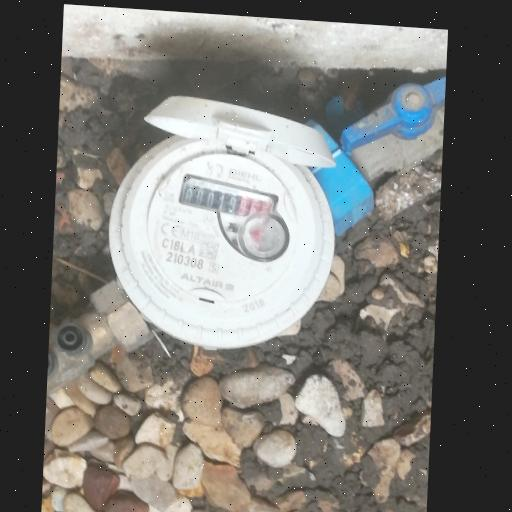0: (181, 182, 197, 206), (192, 185, 207, 208), (203, 188, 218, 211)
1: (214, 190, 229, 213)
3: (258, 201, 271, 216)
6: (246, 198, 261, 219)
9: (224, 193, 241, 216), (237, 195, 251, 218)
border_water_meter_number: (176, 172, 279, 228)
